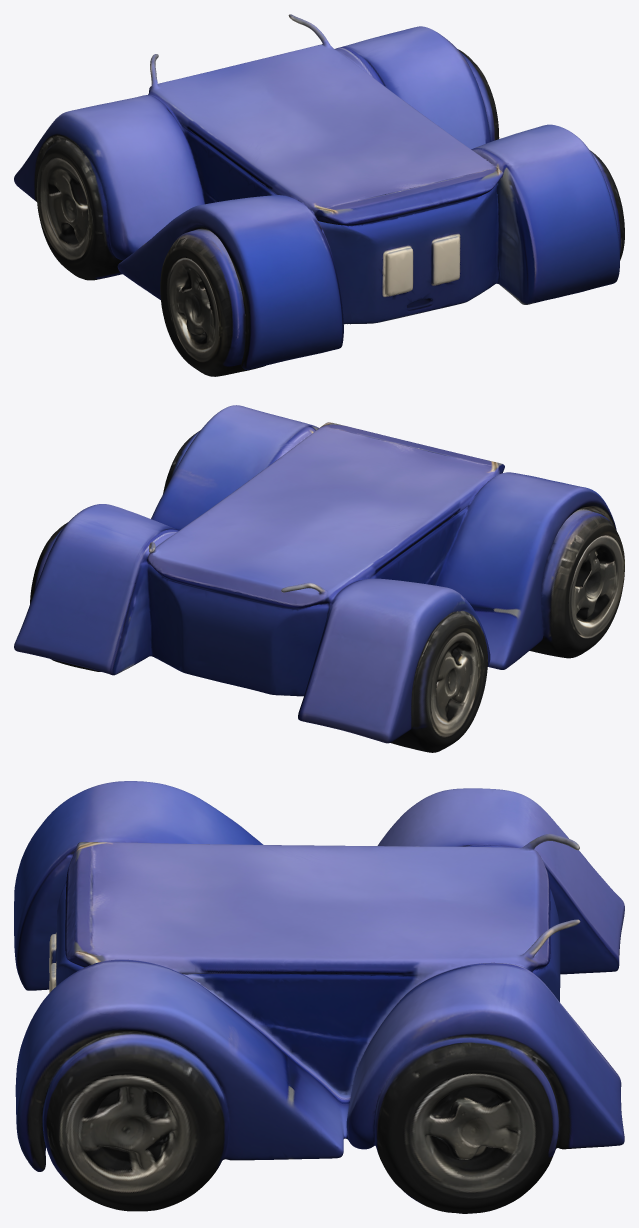
File: humblebeev2.glb
3 views of the same model, one above another, from view 1: azimuth 30°, elevation 25°; view 2: azimuth 150°, elevation 25°; view 3: azimuth 270°, elevation 25° (orthographic). The views are drawn at different scales.
Parts seen in each view (by area): view 1: tripo_node_919681a1-7faa-43d3-8fe7-d3658ae15f43; view 2: tripo_node_919681a1-7faa-43d3-8fe7-d3658ae15f43; view 3: tripo_node_919681a1-7faa-43d3-8fe7-d3658ae15f43.
Part boxes in pixels (box(x1,y1,x2,y2)): tripo_node_919681a1-7faa-43d3-8fe7-d3658ae15f43: box(14, 14, 624, 376); tripo_node_919681a1-7faa-43d3-8fe7-d3658ae15f43: box(14, 405, 624, 752); tripo_node_919681a1-7faa-43d3-8fe7-d3658ae15f43: box(14, 781, 624, 1213).
Size of the model in its own units: 0.9927 by 0.3946 by 1.
1 material, 1 textured.
